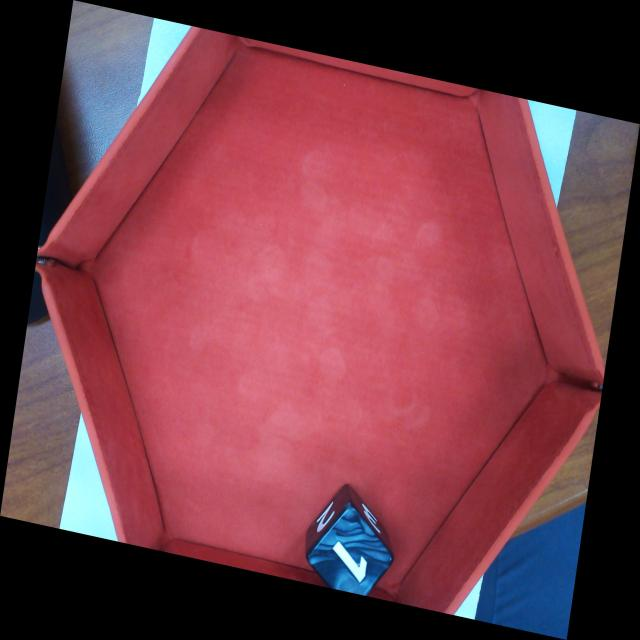dice: (303, 499, 398, 616)
